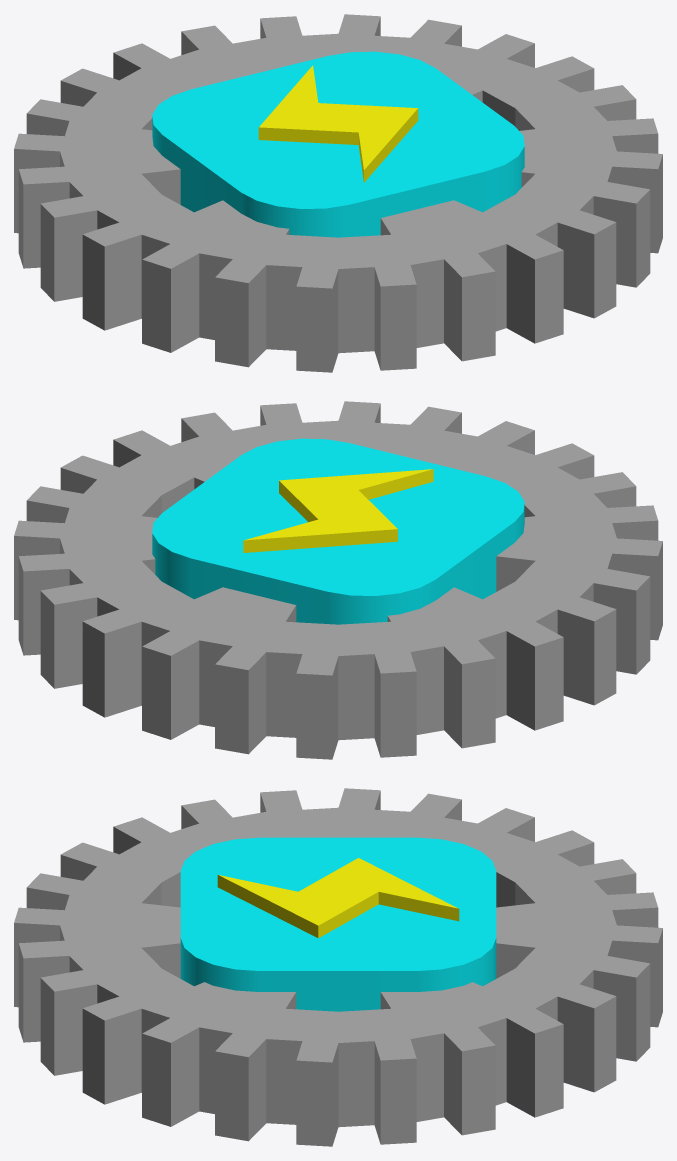
Rendered from gear_MainUnit1.fbx.
3 renders of one model, top to bottom at view 1: azimuth 30°, elevation 25°; view 2: azimuth 150°, elevation 25°; view 3: azimuth 270°, elevation 25°, orthographic.
Visible parts, largest first — view 1: gear_main, button, mark1; view 2: gear_main, button, mark1; view 3: gear_main, button, mark1.
Boxes of the visible parts, box(x1,y1,x2,y2) form: gear_main: box(14, 14, 662, 372); button: box(152, 51, 524, 237); mark1: box(258, 65, 418, 182); gear_main: box(14, 401, 662, 759); button: box(152, 438, 524, 624); mark1: box(243, 469, 433, 552); gear_main: box(14, 788, 662, 1146); button: box(180, 837, 496, 1011); mark1: box(217, 858, 459, 938).
Bounding box in the file's own units: 3.5 × 0.9 × 3.5.
